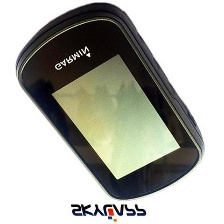phone: (10, 0, 213, 203)
